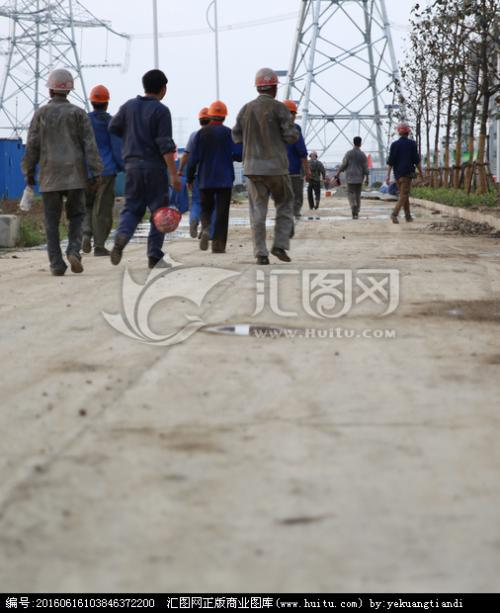helmet: (45, 66, 76, 101), (252, 65, 281, 100), (86, 81, 112, 114), (208, 97, 230, 126), (282, 96, 301, 126), (395, 119, 413, 139)
